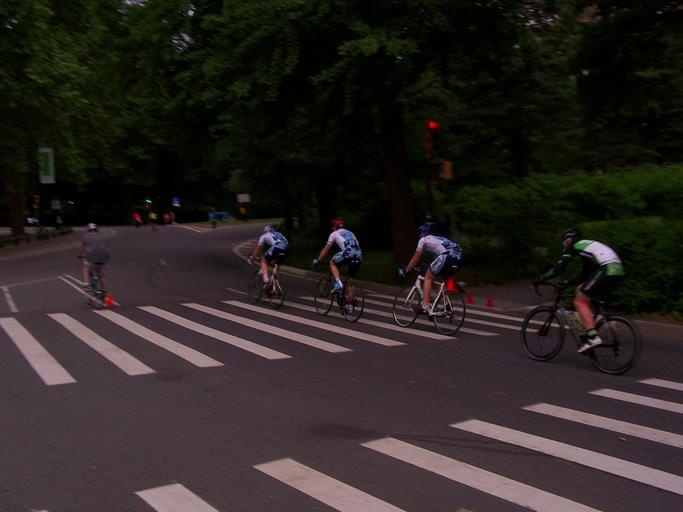non-vehicle: (520, 279, 641, 374), (392, 266, 465, 336), (311, 258, 363, 323), (245, 254, 287, 308), (76, 255, 109, 308)
